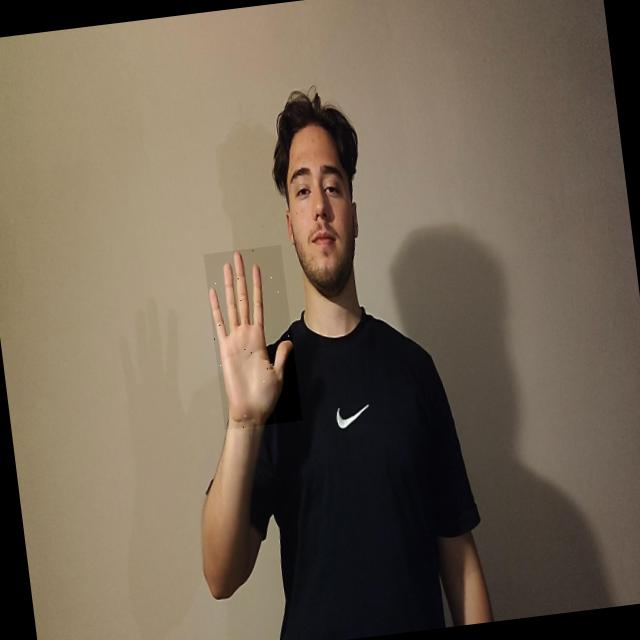hello: (203, 245, 302, 430)
